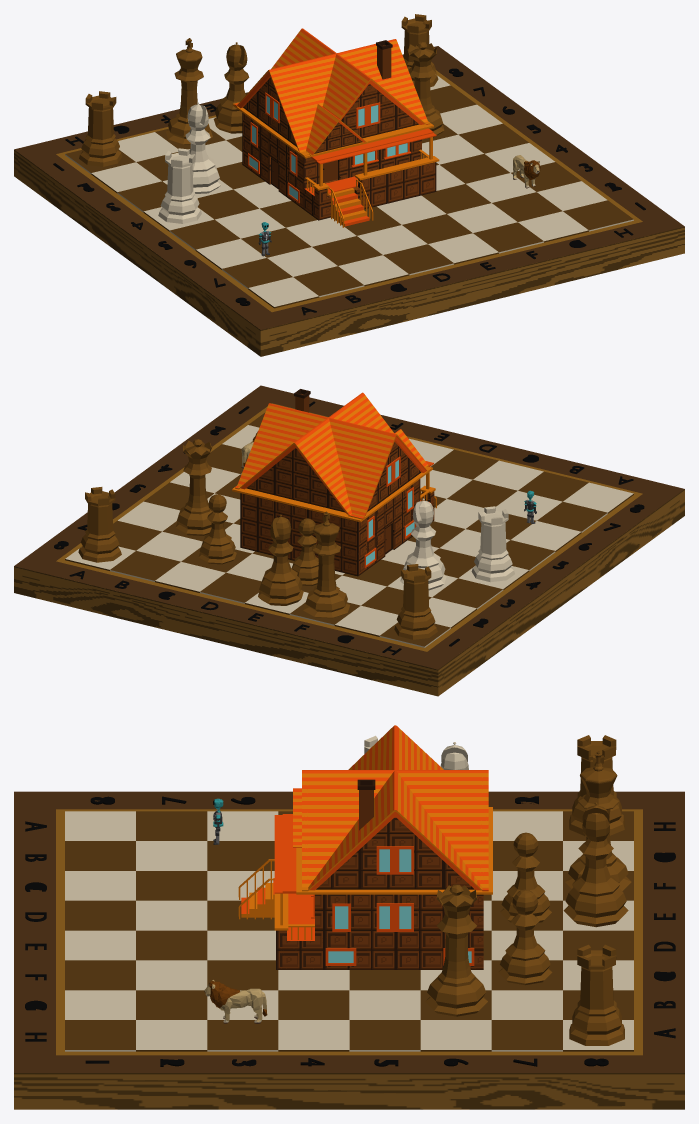
3 renders of one model, top to bottom at view 1: azimuth 30°, elevation 25°; view 2: azimuth 150°, elevation 25°; view 3: azimuth 270°, elevation 25°, orthographic. The views are drawn at different scales.
Parts seen in each view (by area): view 1: Cube.002, Cube, ANIMAL_LEON; view 2: Cube.002, Cube; view 3: Cube.002, Cube, ANIMAL_LEON.
Boxes of the visible parts, x1,y1,x2,y2 form: Cube.002: (14,14,684,356); Cube: (232,28,439,227); ANIMAL_LEON: (513,155,540,188); Cube.002: (14,385,684,696); Cube: (232,389,436,576); Cube.002: (14,735,684,1109); Cube: (238,725,492,969); ANIMAL_LEON: (204,980,267,1023).
Size of the model in its own units: 3981 by 1636 by 4012.
27 materials, 3 textured.
